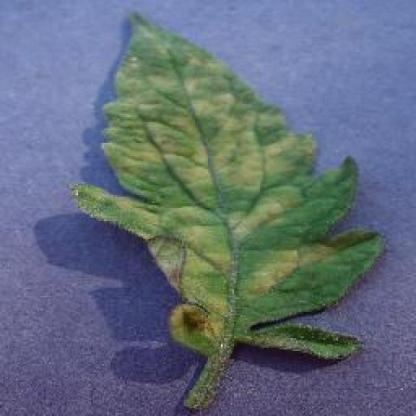Tomato_Leaf_Mold: (72, 11, 381, 359)
